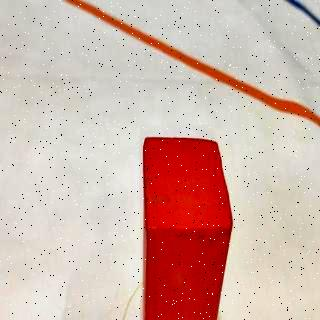redbox: (143, 137, 231, 320)
